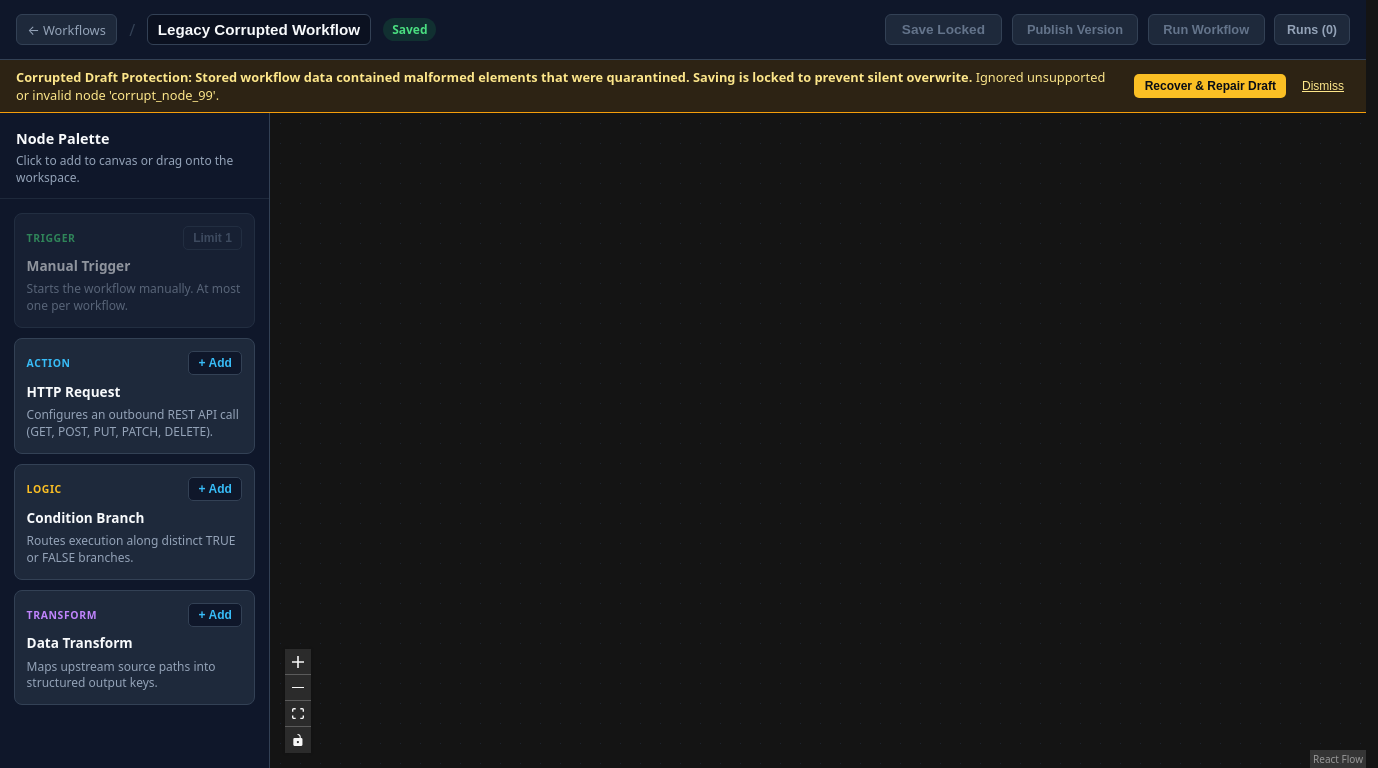
@flowforge/web — Dashboard & Visual Workflow Editor Suite › 2. WorkflowEditor › locks saving when a stored draft contains malformed data until the user clicks Recover & Repair Draft
This screenshot has width=1378, height=768.
Expected: the field showing "Legacy Corrupted Workflow" is shown, [147,14,371,45]
Expected: the text "Corrupted Draft Protection:" is shown, [16,68,972,86]
# Clicking Recover & Repair Draft unlocks saving and marks draft as unsaved
Click the button "Recover & Repair Draft" at (1210, 86), box [1134,74,1286,98]
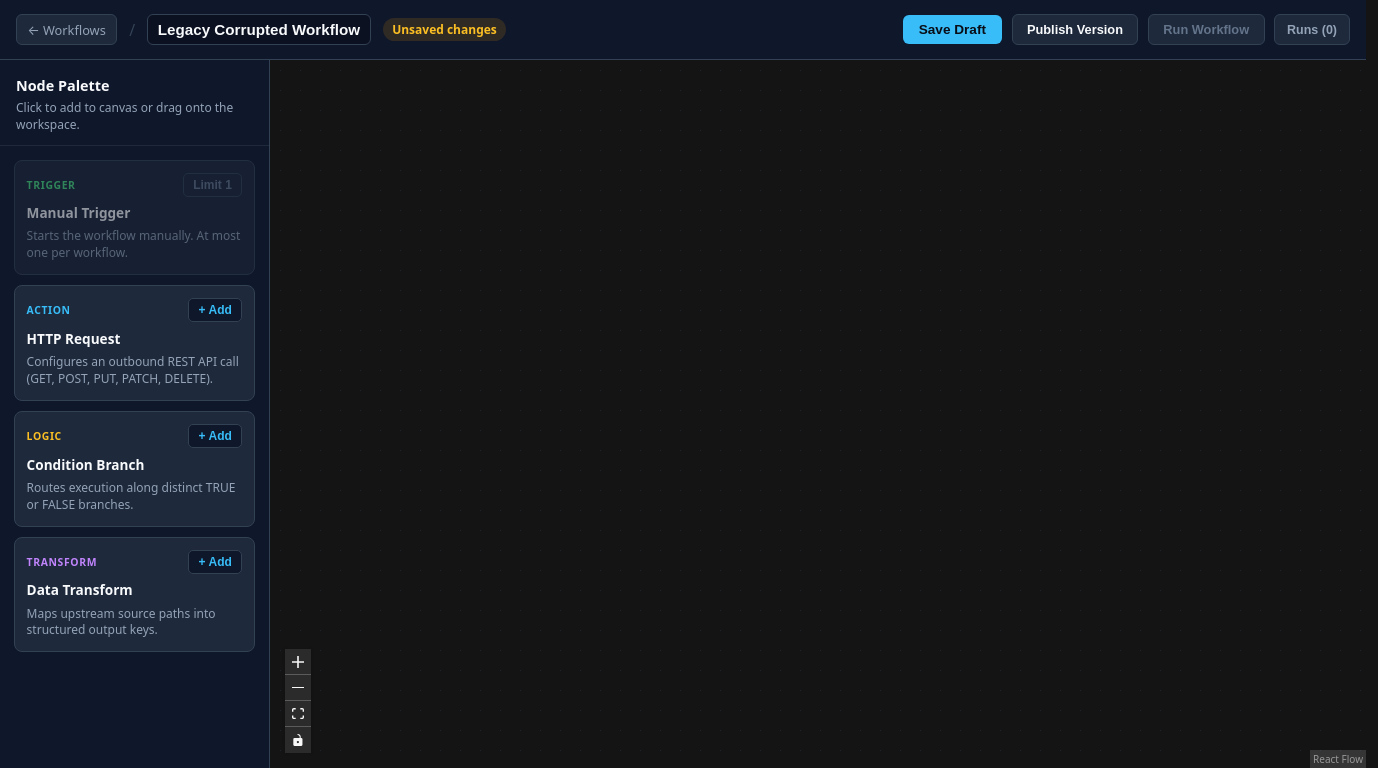
Expected: the message with test id "save-status-indicator" reads "Unsaved changes", [392,21,497,38]
Expected: the button "Save Draft" is enabled
# Now explicit save succeeds with the repaired graph
Click the button "Save Draft" at (952, 30), box [903,15,1002,44]
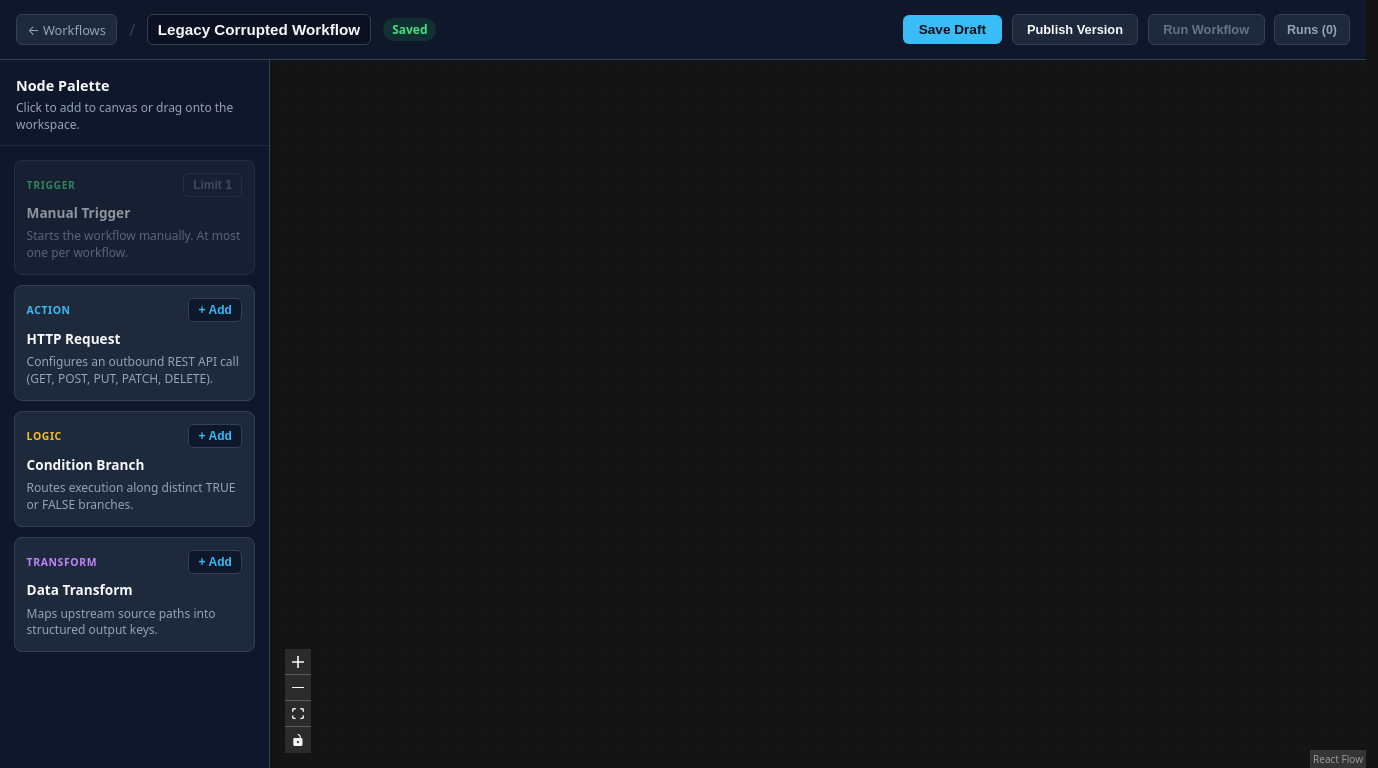
Expected: the message with test id "save-status-indicator" reads "Saved", [392,21,428,38]
